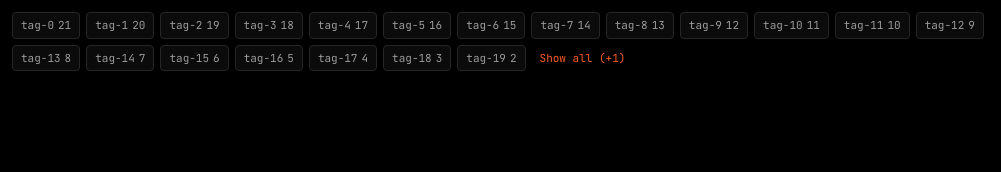
Test case: TagFilterChips › renders top 20 and a Show all button when > 20; clicking reveals all
The image size is (1001, 172).
expect the text "tag-0" is shown: met, box [21,17,54,34]
expect the text "tag-20" is not shown: met
Click the button "Show all (+1)" at (582, 58), box [532,44,633,71]
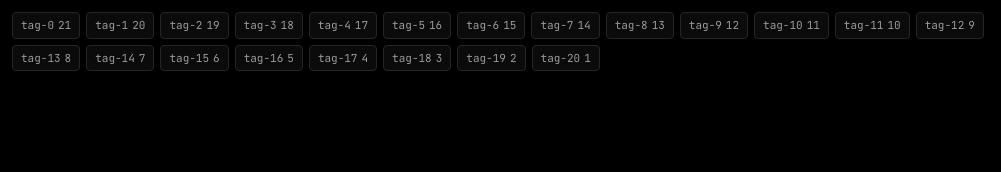
expect the text "tag-20" is shown: met, box [540,50,580,66]
